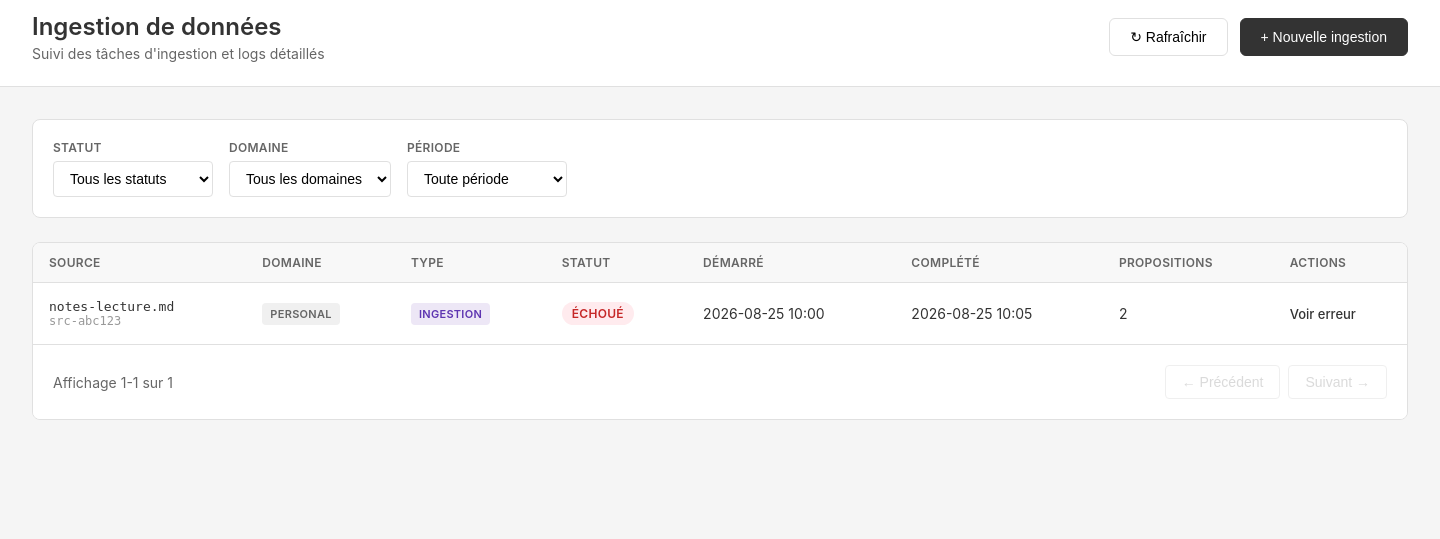
Test: IngestionLogs › AC3: a failed row's expanded detail shows both its error string and its full events sequence
Click the link "Voir erreur" at point(1323, 314), box [1290,306,1356,322]
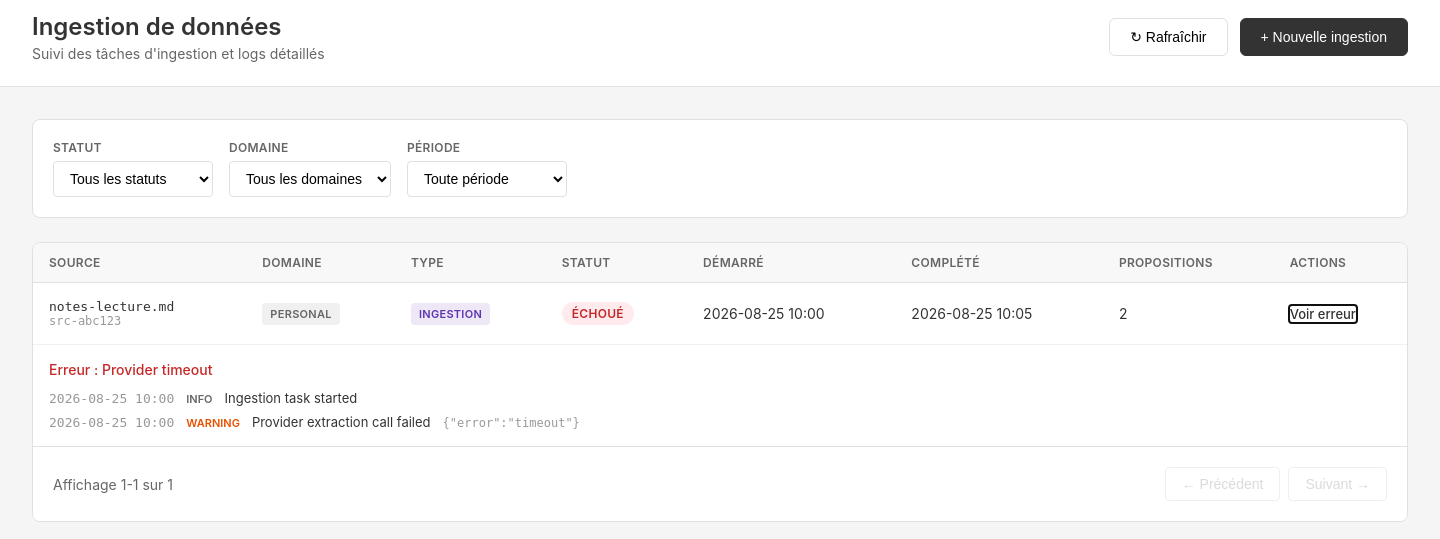
Check: the text "Erreur : Provider timeout" is shown, box [49,361,212,378]
Check: the text "Ingestion task started" is shown, box [225,390,357,406]
Check: the text "Provider extraction call failed" is shown, box [252,414,431,430]
